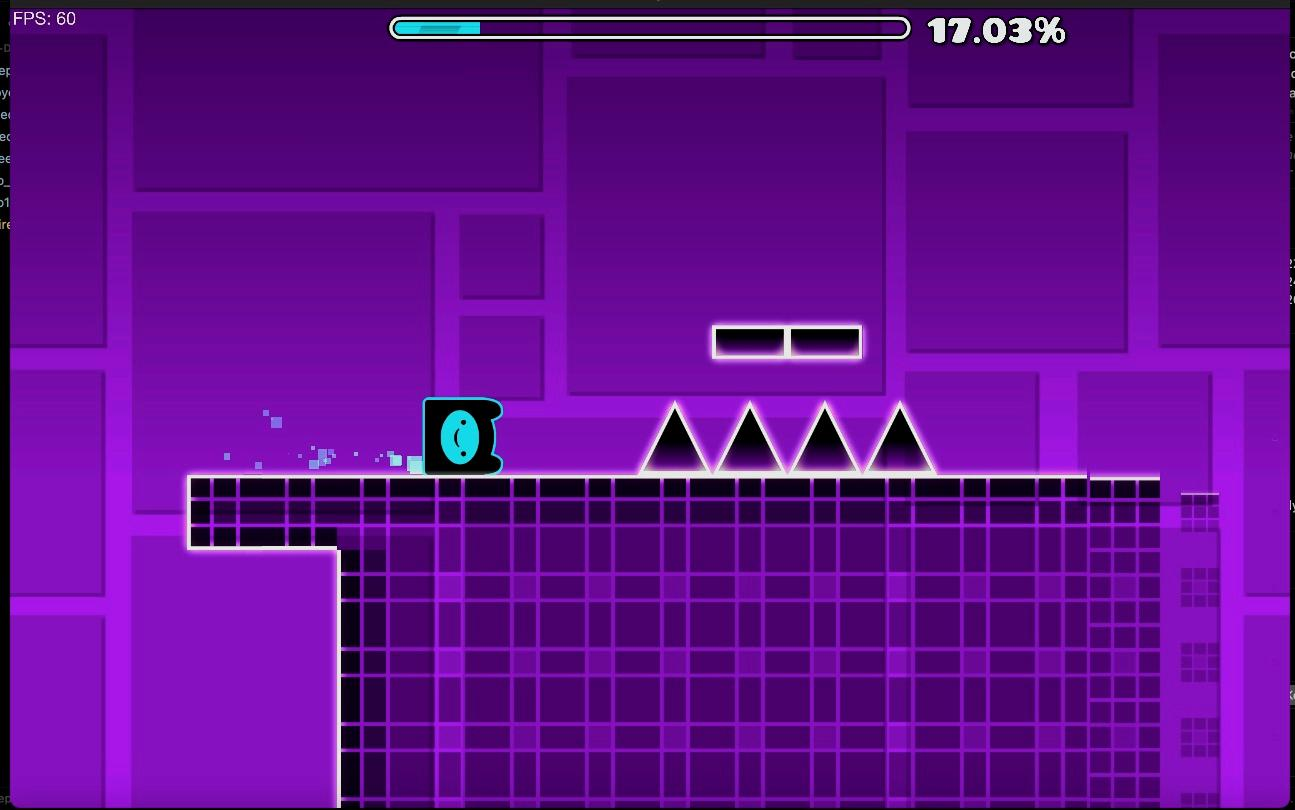block: (337, 483, 1155, 810), (193, 479, 336, 547)
platform: (712, 326, 783, 358), (790, 326, 861, 357)
player: (423, 397, 502, 475)
spike: (640, 404, 708, 471), (867, 403, 931, 472), (719, 403, 783, 471), (793, 404, 856, 471)
